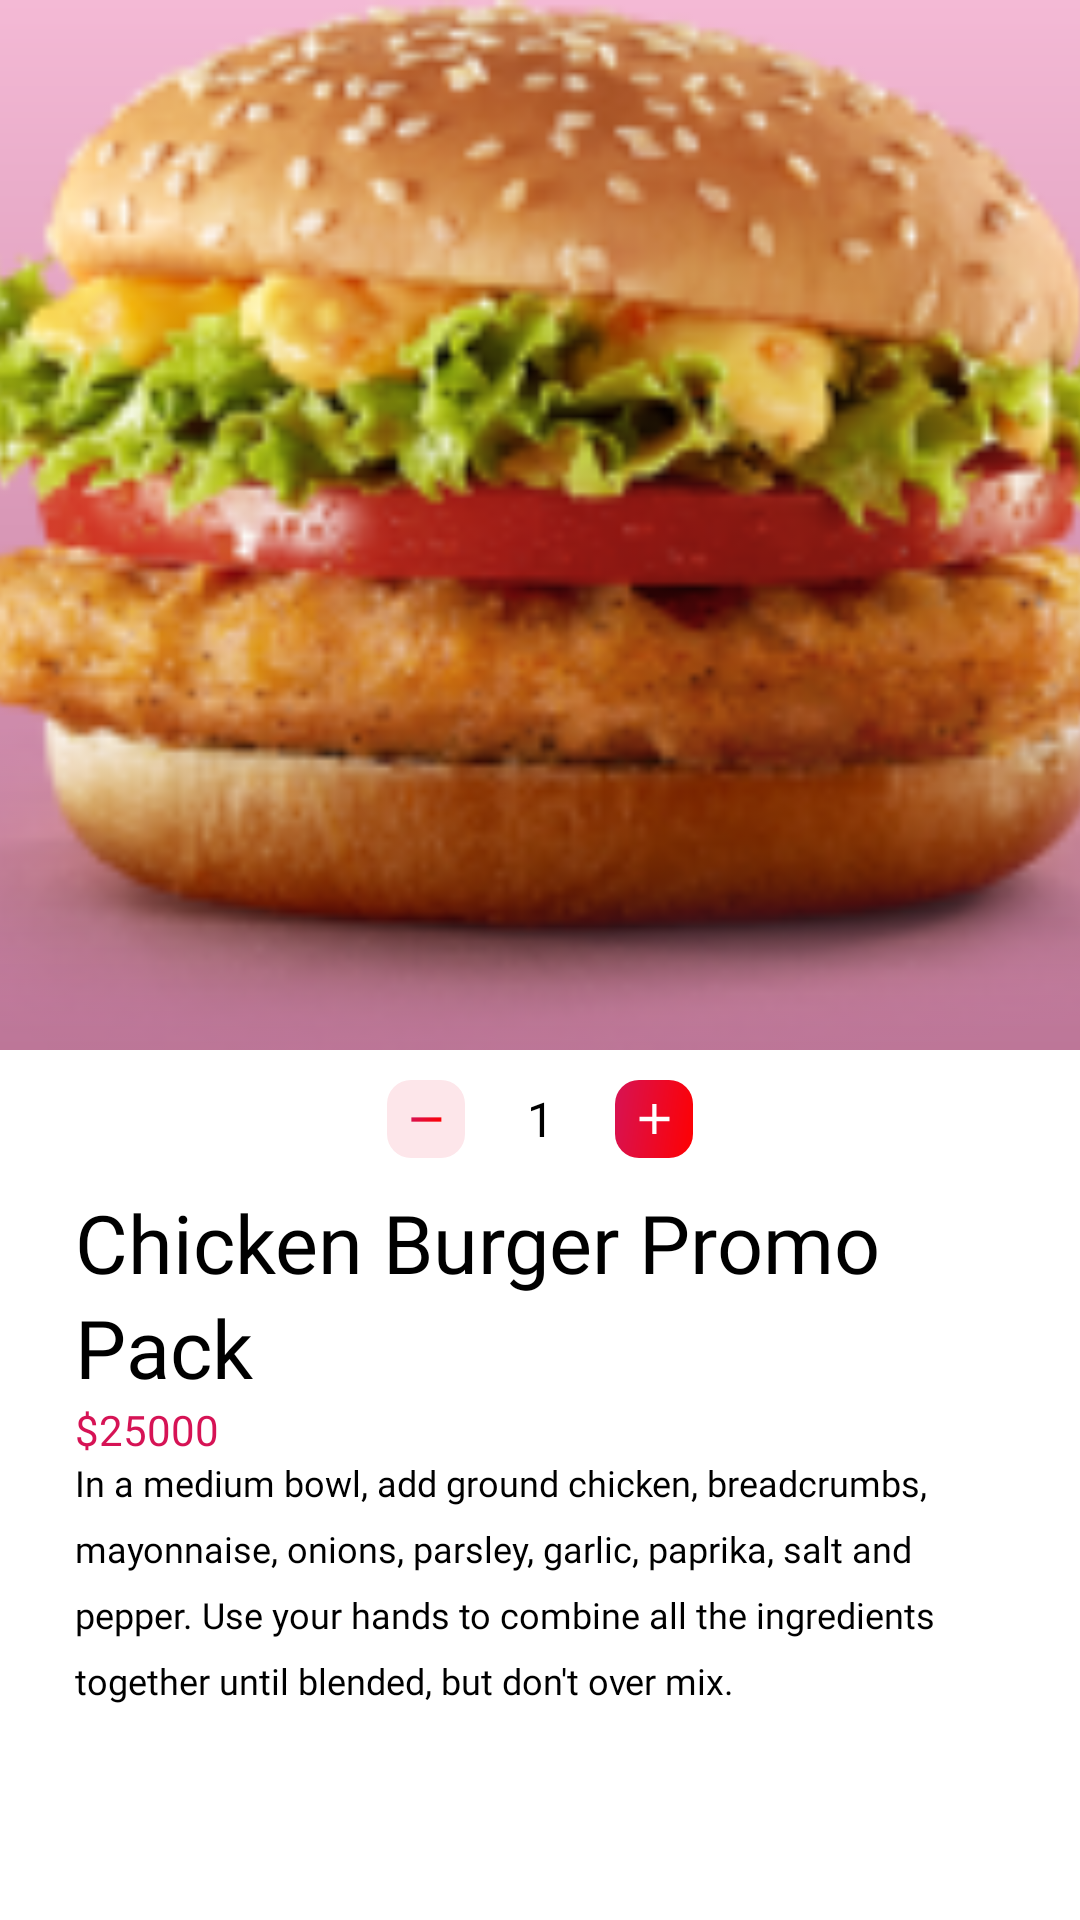

Icon click points for this 1080 x 1920 phone screenshot, format [x,y]:
minus: [426,1119]
plus: [654,1119]
